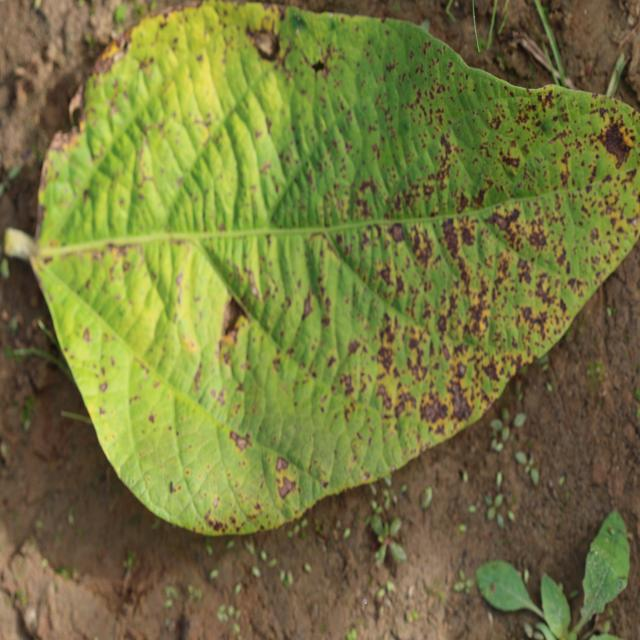Bacterial_Blight: (514, 280, 569, 351), (597, 103, 639, 170), (406, 226, 435, 270), (489, 206, 524, 241), (446, 379, 473, 421), (466, 298, 491, 336), (440, 219, 462, 257), (534, 275, 554, 302), (376, 344, 395, 372), (229, 429, 251, 452), (277, 473, 296, 499), (516, 258, 534, 285), (501, 148, 521, 170), (376, 384, 393, 409), (301, 292, 315, 321), (539, 88, 556, 111), (339, 372, 355, 396), (390, 223, 405, 243), (275, 455, 289, 473), (209, 517, 225, 532), (260, 160, 272, 175), (82, 327, 92, 343), (169, 480, 180, 494), (175, 272, 184, 289), (98, 381, 108, 393), (148, 412, 156, 424), (98, 406, 106, 416)
Soybean: (17, 2, 640, 534)
